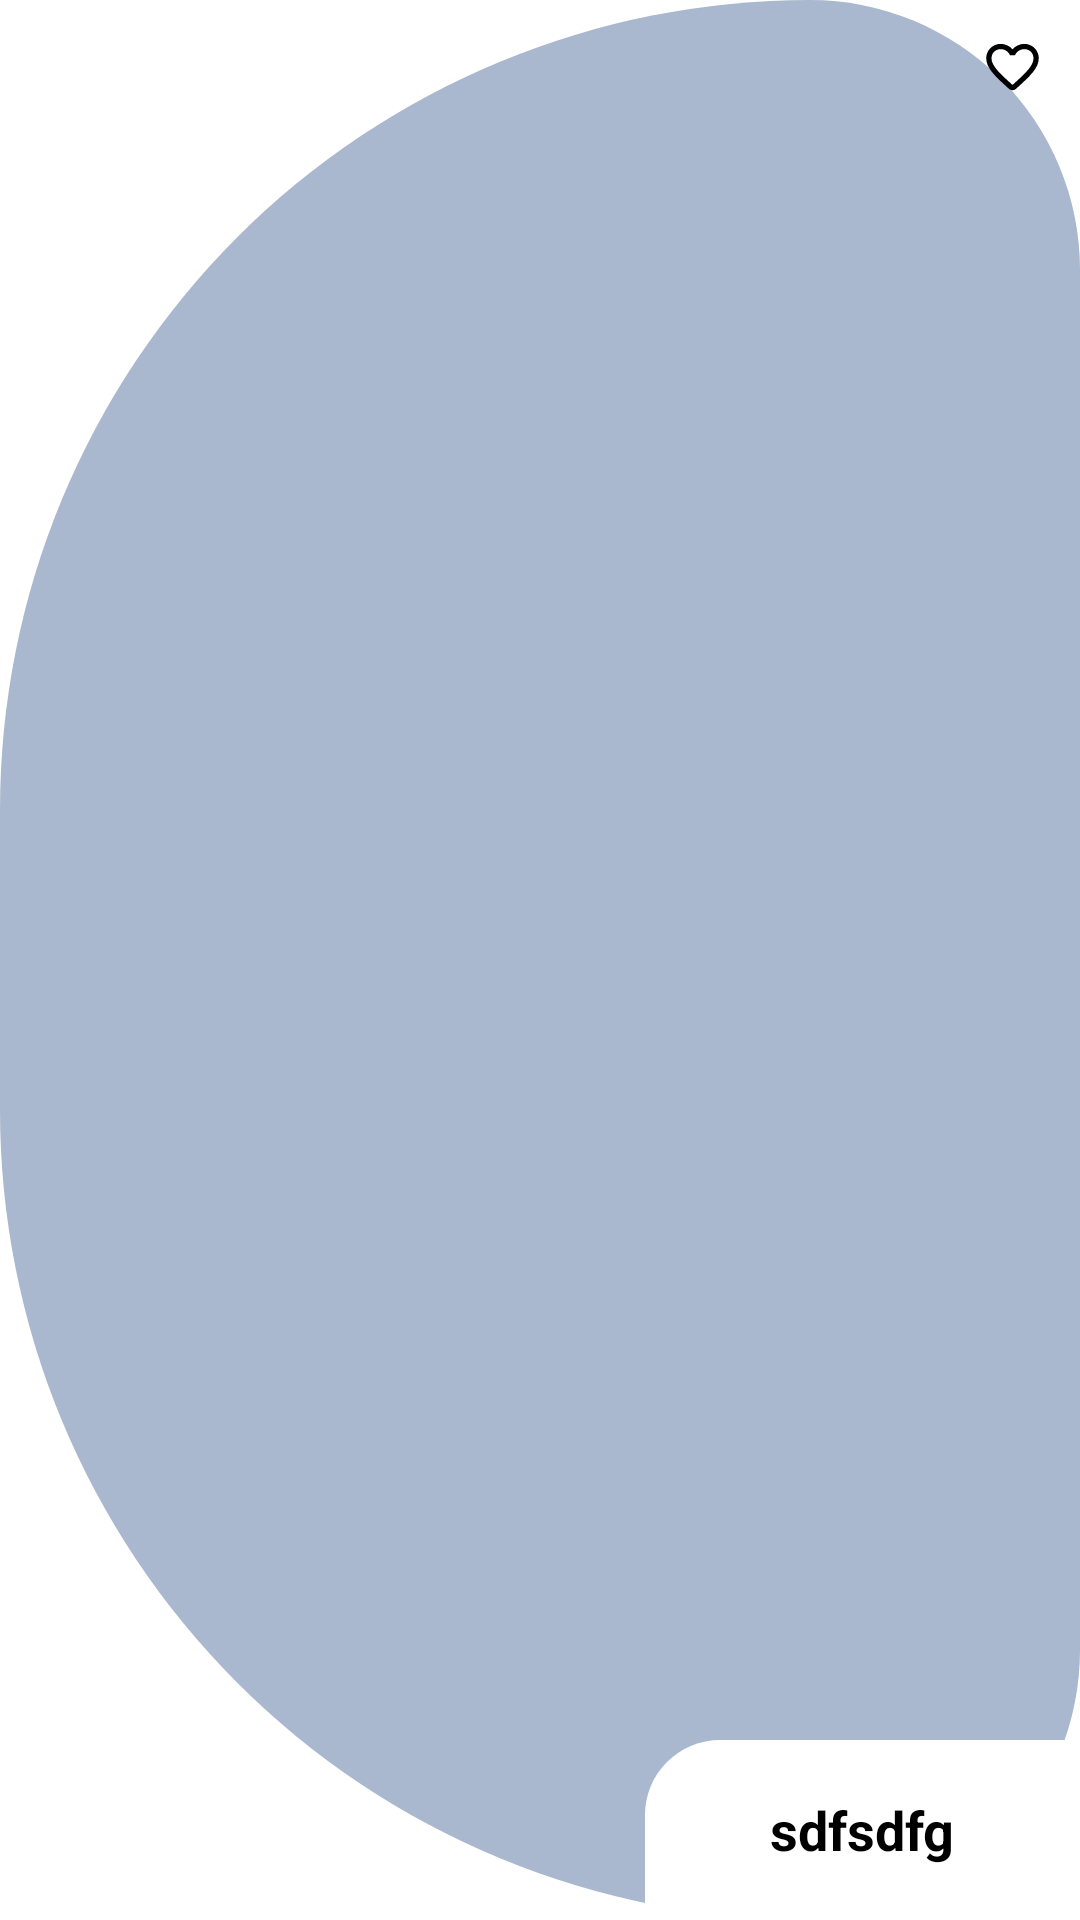

Screen size 1080x1920. Icon name, then its box in pixels as (x1, y1, x2, y2):
favorite border: (975, 44, 1039, 105)
